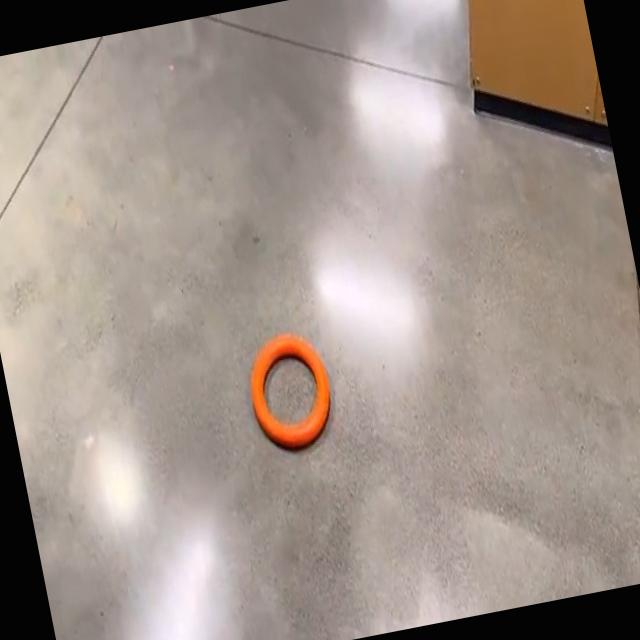note: (251, 333, 330, 448)
